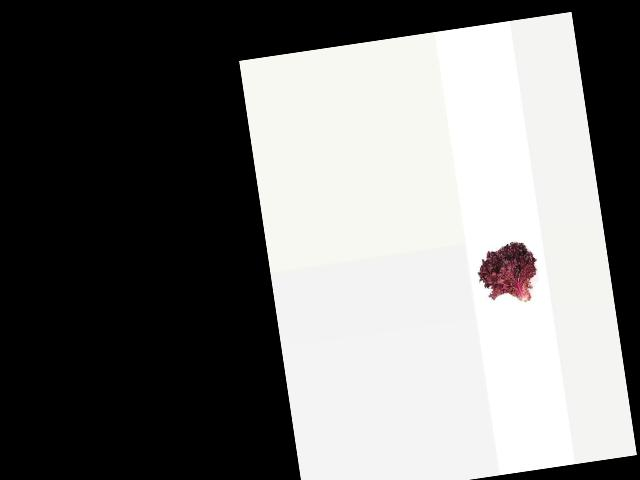lettuce: (472, 236, 540, 314)
